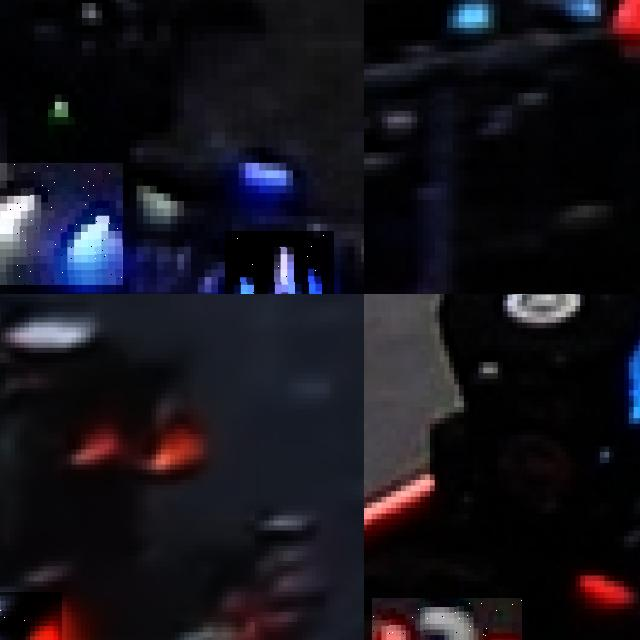B4: (0, 163, 123, 285), (225, 231, 334, 294)
R3: (371, 597, 522, 640)
